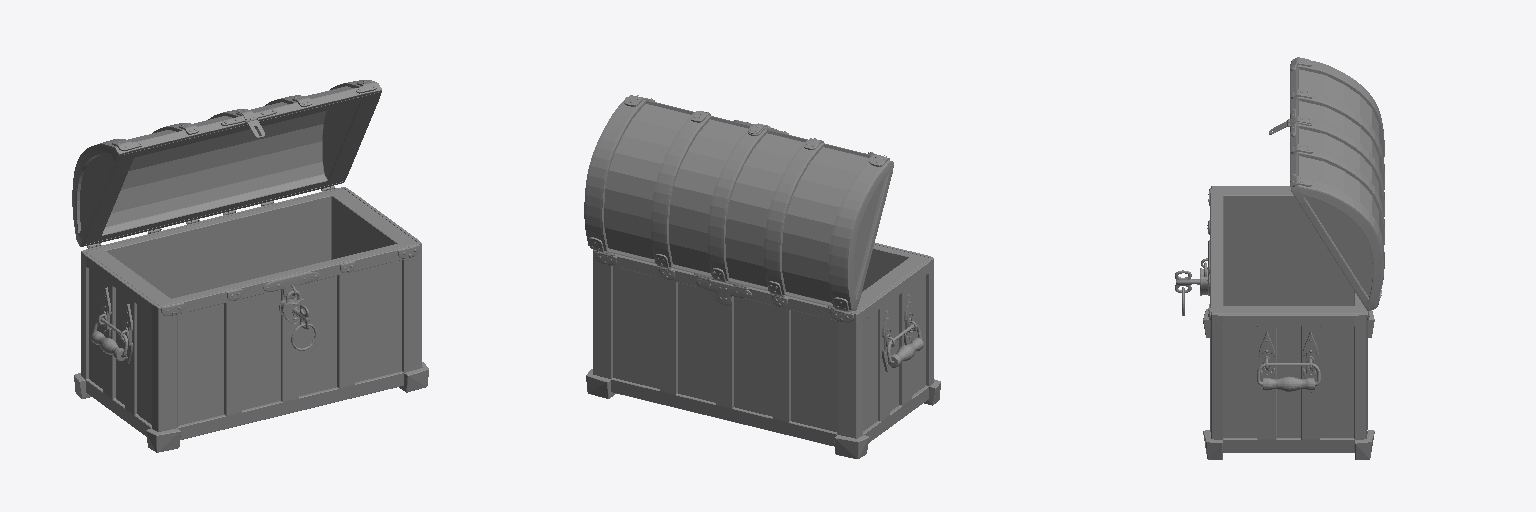
Rendered from chest.obj.
3 views of the same model, side by side, from view 1: azimuth 30°, elevation 25°; view 2: azimuth 150°, elevation 25°; view 3: azimuth 270°, elevation 25° (orthographic).
Parts seen in each view (by area): view 1: chest_02, chest_01; view 2: chest_02, chest_01; view 3: chest_02, chest_01.
Boxes of the visible parts, <box> form: chest_02: <box>80,86,417,425</box>; chest_01: <box>72,80,428,452</box>; chest_02: <box>604,104,929,431</box>; chest_01: <box>584,95,940,458</box>; chest_02: <box>1214,69,1381,437</box>; chest_01: <box>1175,57,1384,459</box>.
Size of the model in its own units: 138 by 122 by 84.13.